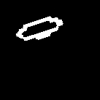chain: (16, 17, 62, 39)
